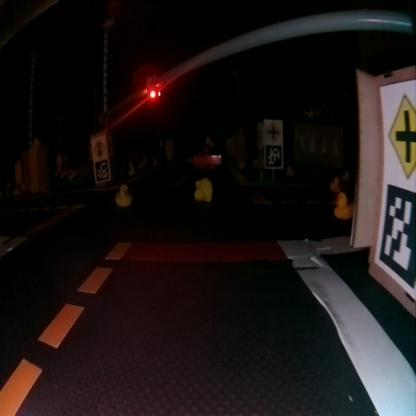Duckie: (333, 192, 353, 218), (194, 177, 212, 200), (115, 185, 131, 206), (330, 176, 340, 188), (342, 170, 349, 181)
Duckiebot: (188, 148, 220, 167)
Intersection sign: (385, 90, 413, 177), (266, 120, 282, 143)
QR code: (378, 183, 412, 287), (264, 145, 282, 167), (94, 160, 109, 181)
Signal sign: (91, 138, 107, 158)
Traffic light: (146, 75, 158, 103)
